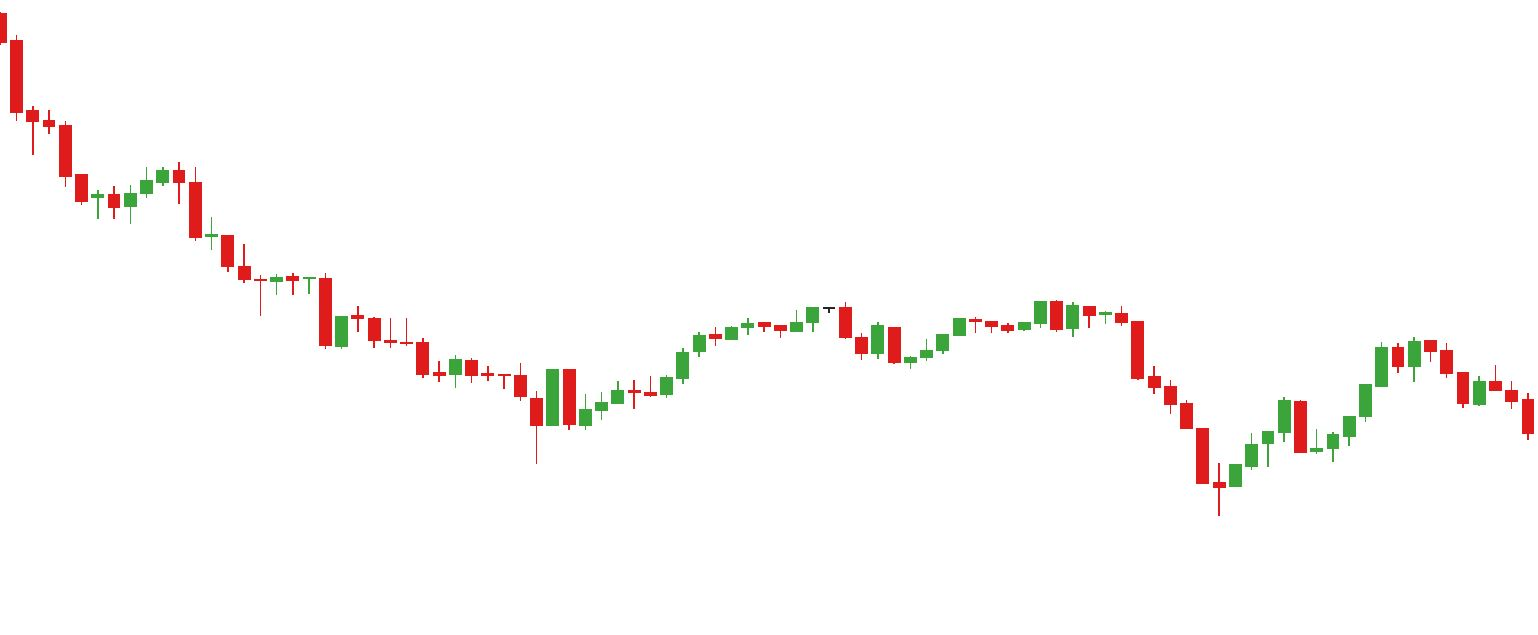buy: (430, 360, 562, 452)
